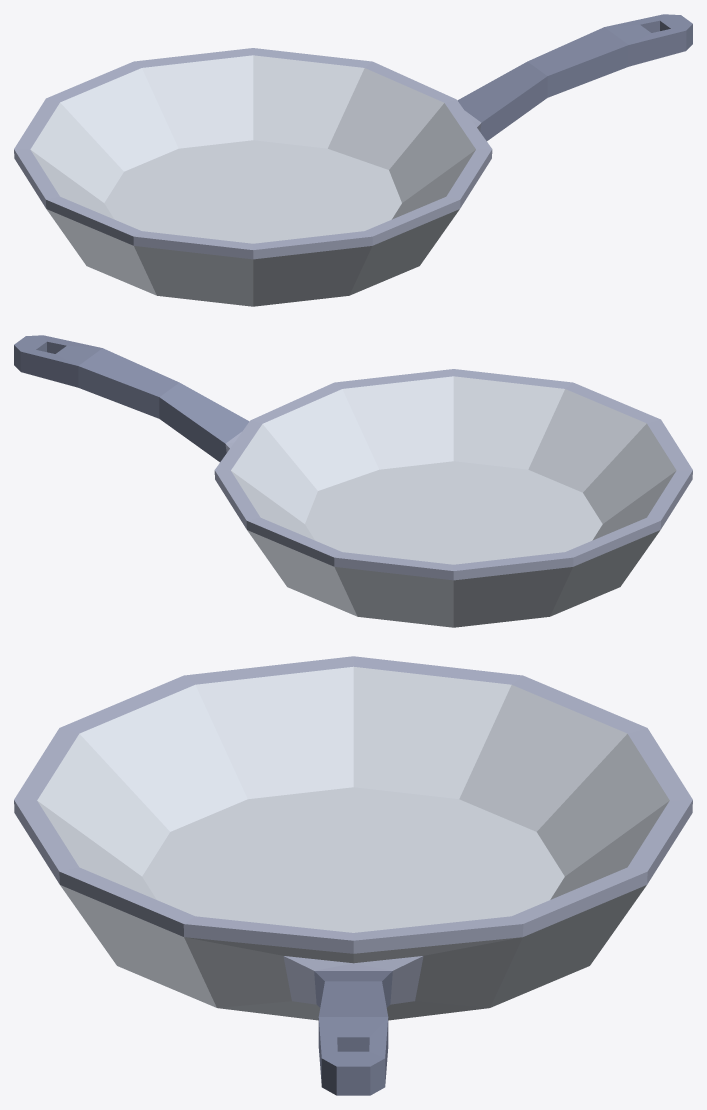
File: HangingPan.FBX
3 renders of one model, top to bottom at view 1: azimuth 30°, elevation 25°; view 2: azimuth 150°, elevation 25°; view 3: azimuth 270°, elevation 25°, orthographic. The views are drawn at different scales.
Visible parts, largest first — view 1: Pan_01; view 2: Pan_01; view 3: Pan_01.
Part boxes in pixels (left/top/right/bottom): Pan_01: left=14, top=14, right=692, bottom=306; Pan_01: left=14, top=335, right=692, bottom=627; Pan_01: left=14, top=656, right=692, bottom=1095.
Bounding box in the file's own units: 68.84 × 10.33 × 44.48.
